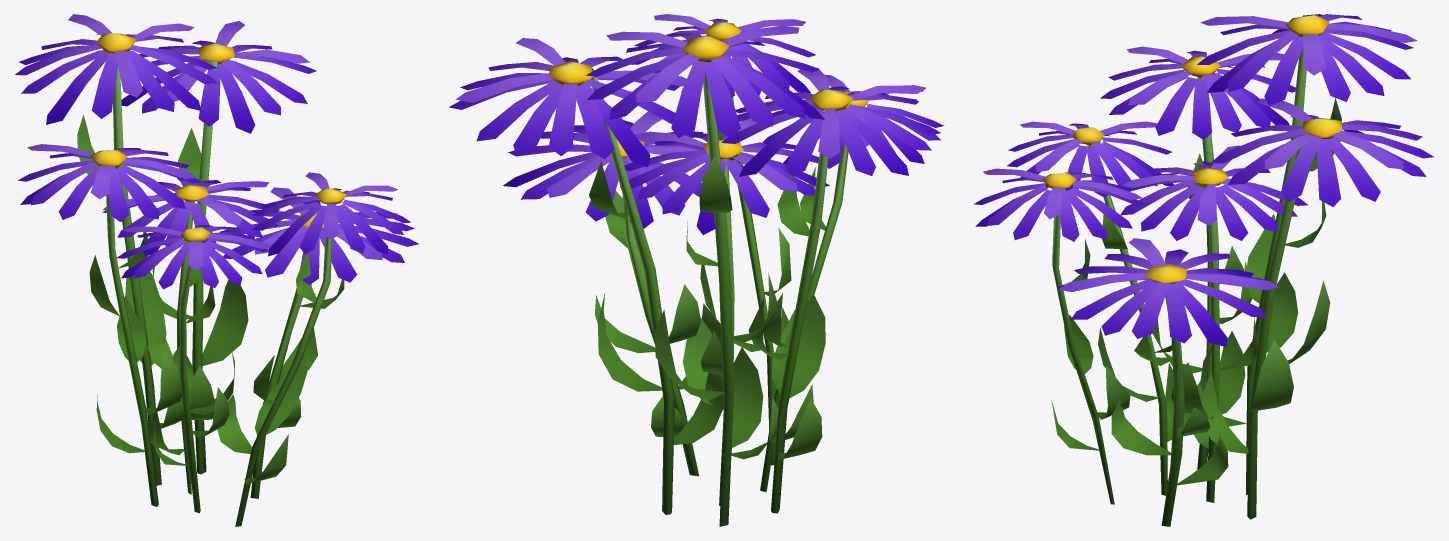
File: flower (4)_LOD1.fbx
The picture shows the model from 3 angles, left to right: view 1: azimuth 30°, elevation 25°; view 2: azimuth 150°, elevation 25°; view 3: azimuth 270°, elevation 25°; orthographic projection. The views are drawn at different scales.
Parts seen in each view (by area): view 1: 03_Aster; view 2: 03_Aster; view 3: 03_Aster.
Boxes of the visible parts, left/top/right/bottom form: 03_Aster: left=15, top=14, right=418, bottom=526; 03_Aster: left=449, top=14, right=944, bottom=526; 03_Aster: left=974, top=14, right=1434, bottom=526.
Bounding box in the file's own units: 92.47 × 106 × 94.02.
